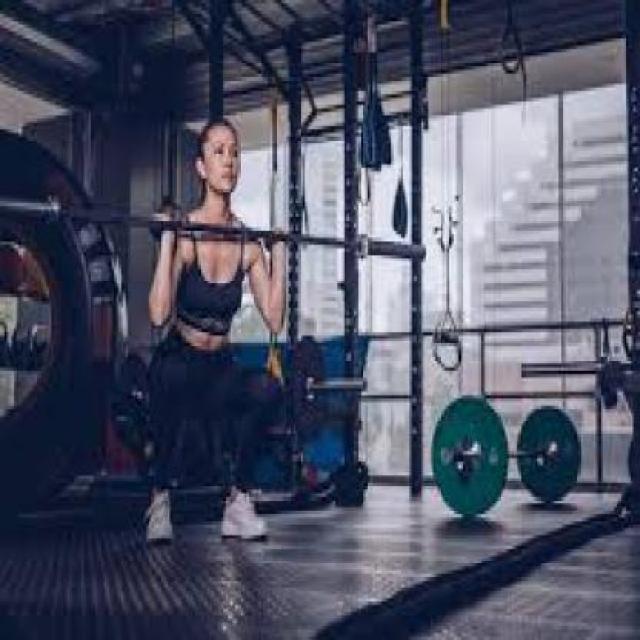barbell: (426, 392, 511, 521), (359, 231, 434, 264)
